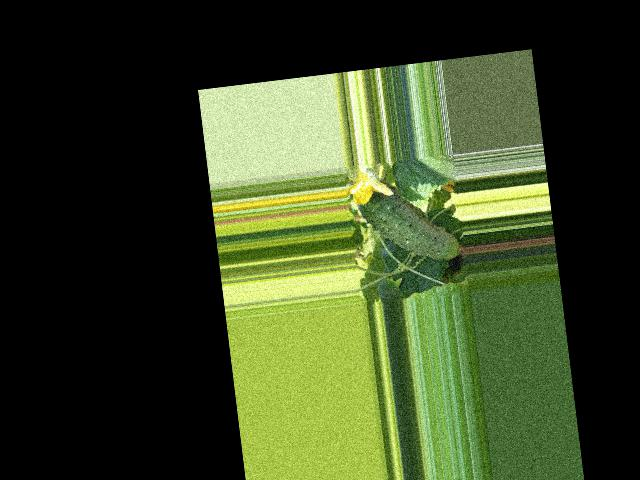cucumber: (355, 171, 466, 270)
